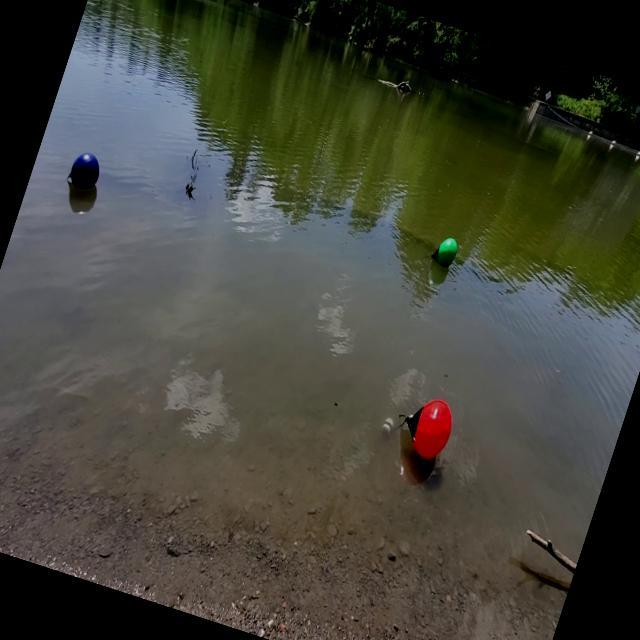buoy: (386, 388, 460, 470), (62, 144, 108, 198), (427, 231, 462, 272)
